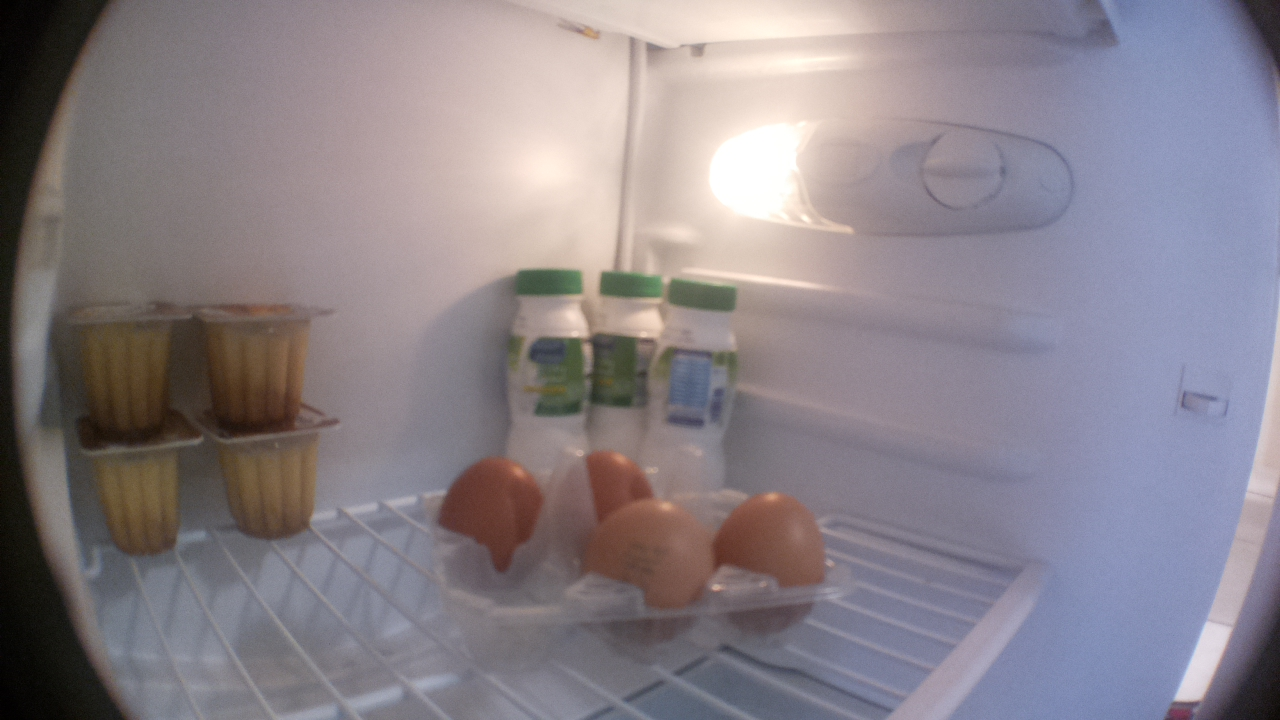caramel: (198, 294, 348, 426), (65, 292, 191, 443), (220, 413, 348, 554), (72, 431, 206, 556)
egg: (578, 500, 720, 657), (716, 492, 831, 639), (437, 453, 555, 596), (565, 441, 659, 510)
laban: (635, 274, 745, 487), (498, 269, 593, 488), (585, 271, 672, 486)
